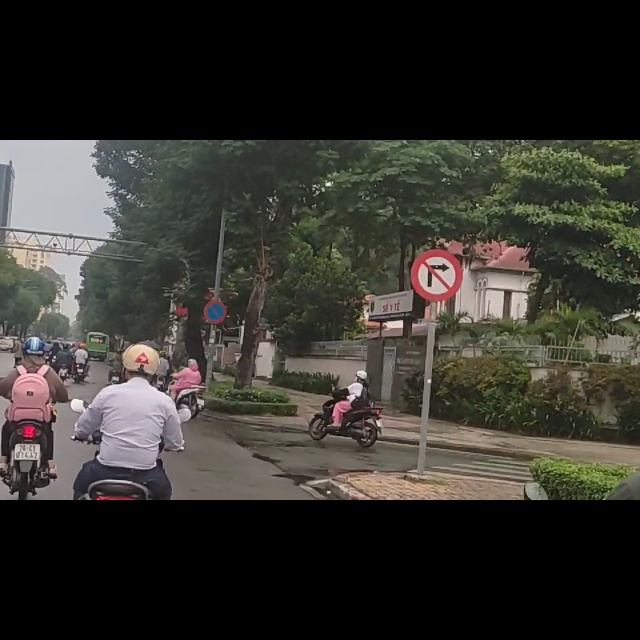bien_cam: (412, 192, 462, 286), (203, 284, 227, 326)
